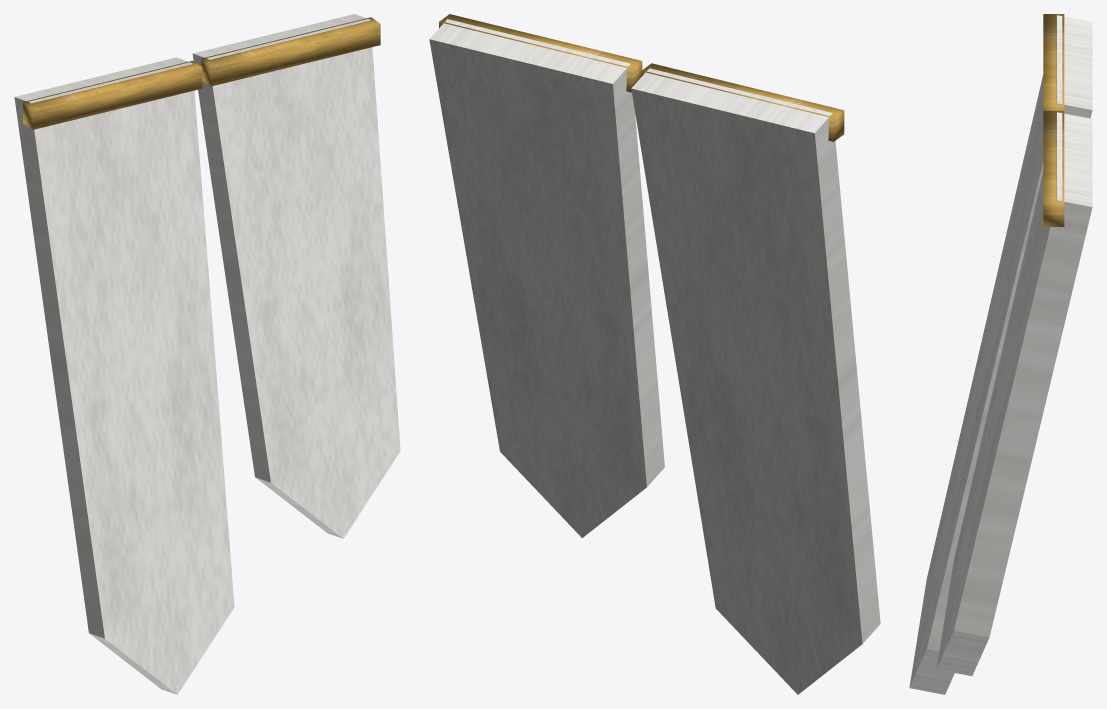
Rendered from rival_seren_coattails.obj.
The picture shows the model from 3 angles, left to right: view 1: azimuth 30°, elevation 25°; view 2: azimuth 150°, elevation 25°; view 3: azimuth 270°, elevation 25°; orthographic projection. The views are drawn at different scales.
Parts seen in each view (by area): view 1: rival_seren_coattails; view 2: rival_seren_coattails; view 3: rival_seren_coattails.
Part boxes in pixels (bbox=[...]): rival_seren_coattails: bbox=[14, 14, 400, 694]; rival_seren_coattails: bbox=[429, 14, 880, 694]; rival_seren_coattails: bbox=[909, 14, 1092, 694].
Size of the model in its own units: 0.5374 by 0.8405 by 0.2195.
